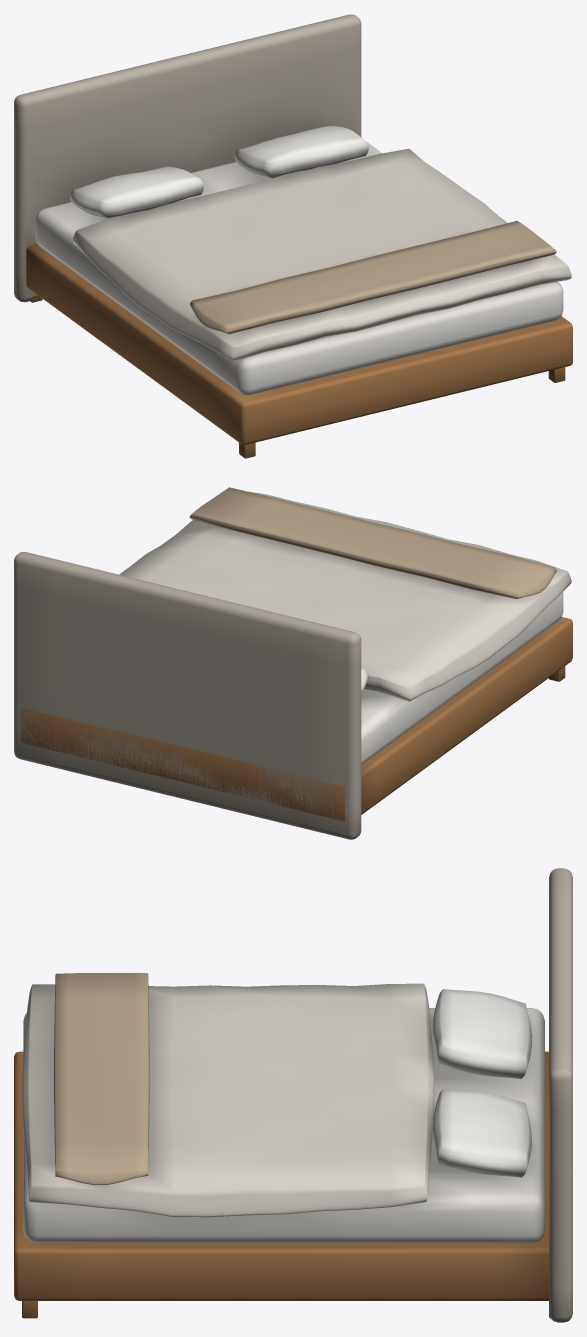
File: lit180.glb
3 views of the same model, one above another, from view 1: azimuth 30°, elevation 25°; view 2: azimuth 150°, elevation 25°; view 3: azimuth 270°, elevation 25° (orthographic). The views are drawn at different scales.
Parts seen in each view (by area): view 1: couette, tete, cadre, matelas, plaid, oreillers; view 2: tete, couette, cadre, plaid, matelas; view 3: couette, cadre, matelas, plaid, oreillers, tete.
Boxes of the visible parts, x1,y1,x2,y2 form: couette: (72,148,571,361); tete: (14,14,361,302); cadre: (26,243,572,458); matelas: (35,142,563,395); plaid: (189,221,556,334); oreillers: (70,125,368,218); tete: (14,552,361,839); couette: (119,492,571,701); cadre: (20,617,572,821); plaid: (189,487,556,598); matelas: (361,592,563,764); couette: (22,983,434,1217); cadre: (14,1051,550,1318); matelas: (23,1008,544,1243); plaid: (54,973,149,1185); oreillers: (433,989,532,1177); tete: (549,868,572,1322).
Size of the model in its own units: 1.88 by 1.05 by 2.1.
